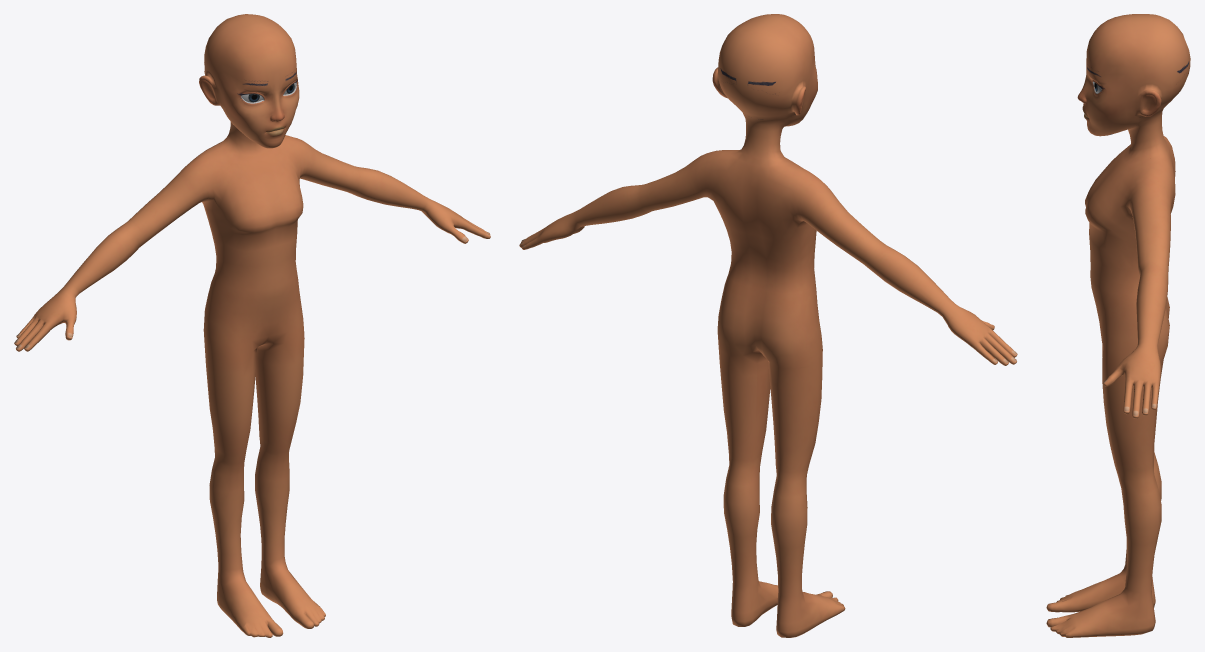
Rendered from frame_0001.glb.
The picture shows the model from 3 angles, left to right: view 1: azimuth 30°, elevation 25°; view 2: azimuth 150°, elevation 25°; view 3: azimuth 270°, elevation 25°; orthographic projection. The views are drawn at different scales.
Parts seen in each view (by area): view 1: frame_0001_head_geo; view 2: frame_0001_head_geo; view 3: frame_0001_head_geo.
Part boxes in pixels (x1,y1,x2,y2): frame_0001_head_geo: [14, 14, 490, 637]; frame_0001_head_geo: [519, 14, 1017, 637]; frame_0001_head_geo: [1046, 14, 1190, 637].
Bounding box in the file's own units: 1.28 × 1.5 × 0.3253.
Materials: 4 (2 with a texture image).
